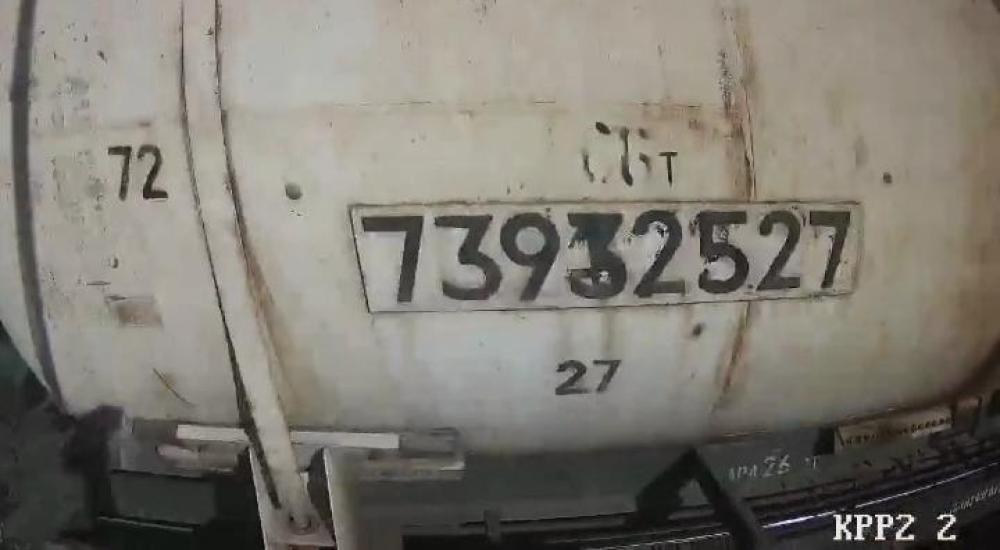Wagon-number: (362, 201, 854, 308)
